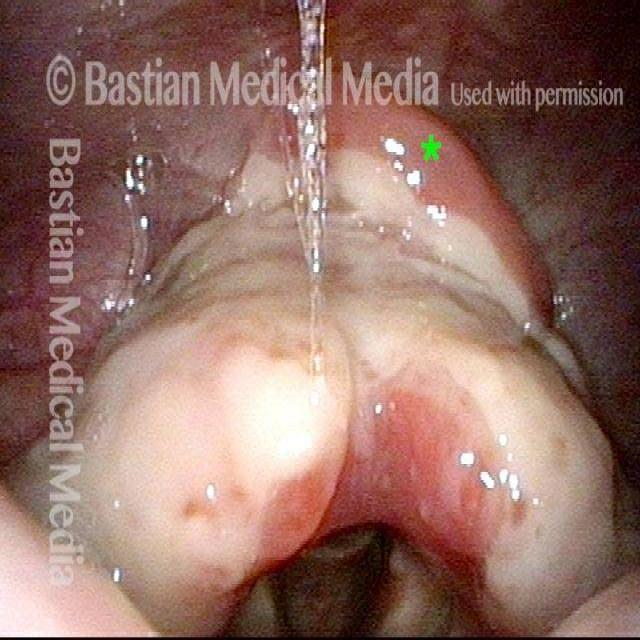arytenoid cartilagerotation: (93, 312, 618, 622)
larynxrotation: (257, 516, 408, 637)
